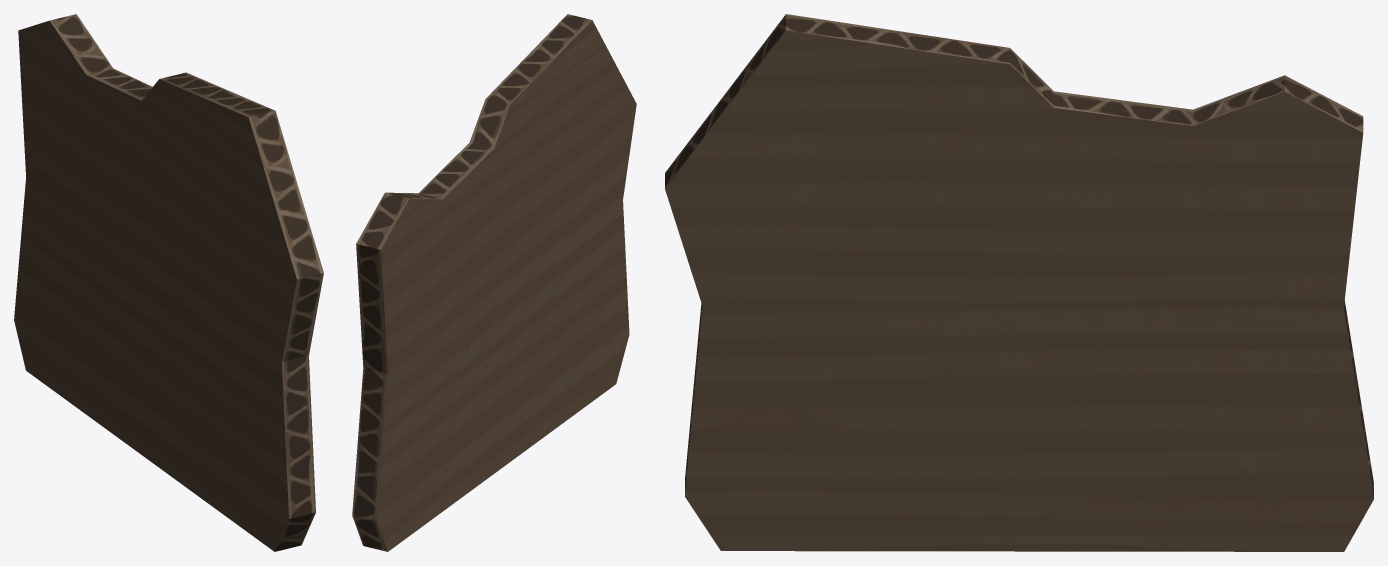
The model's file is crowd2.fbx.
The picture shows the model from 3 angles, left to right: view 1: azimuth 30°, elevation 25°; view 2: azimuth 150°, elevation 25°; view 3: azimuth 270°, elevation 25°; orthographic projection. The views are drawn at different scales.
Visible parts, largest first — view 1: pCube2; view 2: pCube2; view 3: pCube2.
Boxes of the visible parts, x1,y1,x2,y2 form: pCube2: [14, 14, 323, 551]; pCube2: [352, 14, 636, 551]; pCube2: [665, 14, 1373, 551].
Size of the model in its own units: 0.1727 by 2.55 by 3.14.
Materials: 1 (1 with a texture image).
